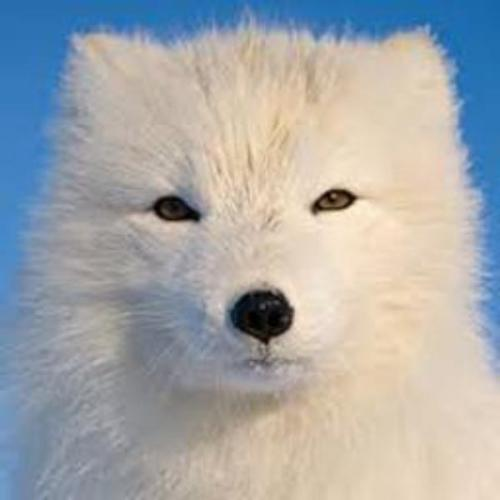arctic_fox-endangered: (33, 25, 490, 485)
